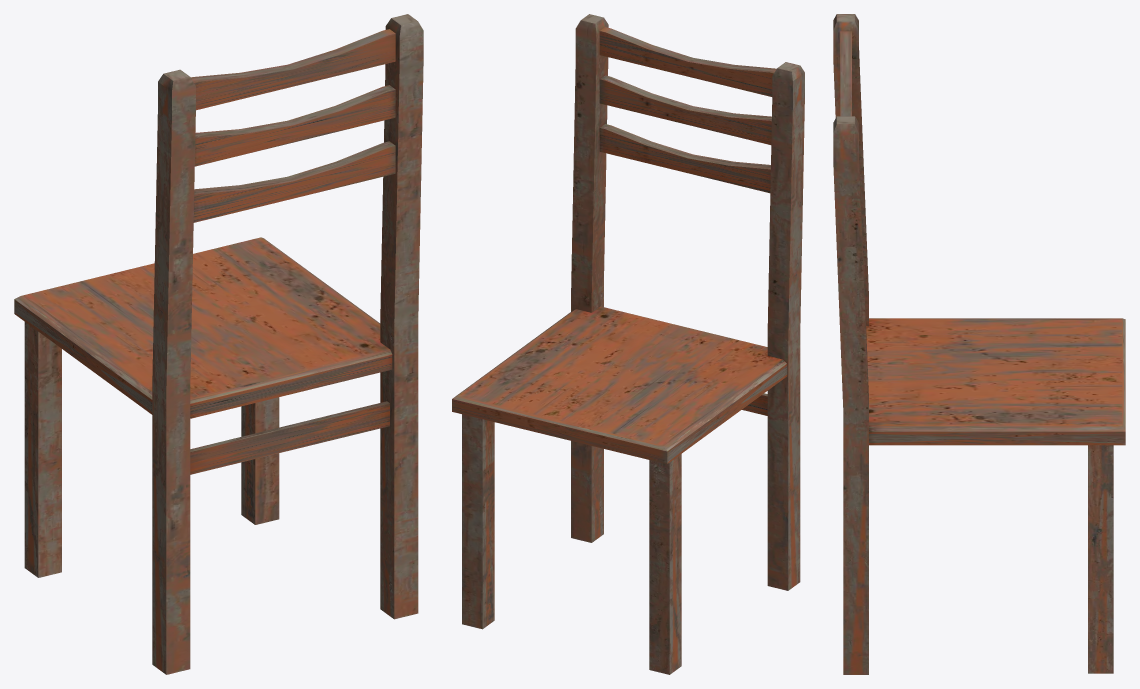
File: chair-transformed.glb
The picture shows the model from 3 angles, left to right: view 1: azimuth 30°, elevation 25°; view 2: azimuth 150°, elevation 25°; view 3: azimuth 270°, elevation 25°; orthographic projection. The views are drawn at different scales.
Visible parts, largest first — view 1: Object_3; view 2: Object_3; view 3: Object_3.
Boxes of the visible parts, x1,y1,x2,y2 form: Object_3: [14, 14, 423, 674]; Object_3: [452, 14, 804, 674]; Object_3: [833, 14, 1125, 674].
Bounding box in the file's own units: 3.76 × 8.51 × 4.1.
1 material, 1 textured.
